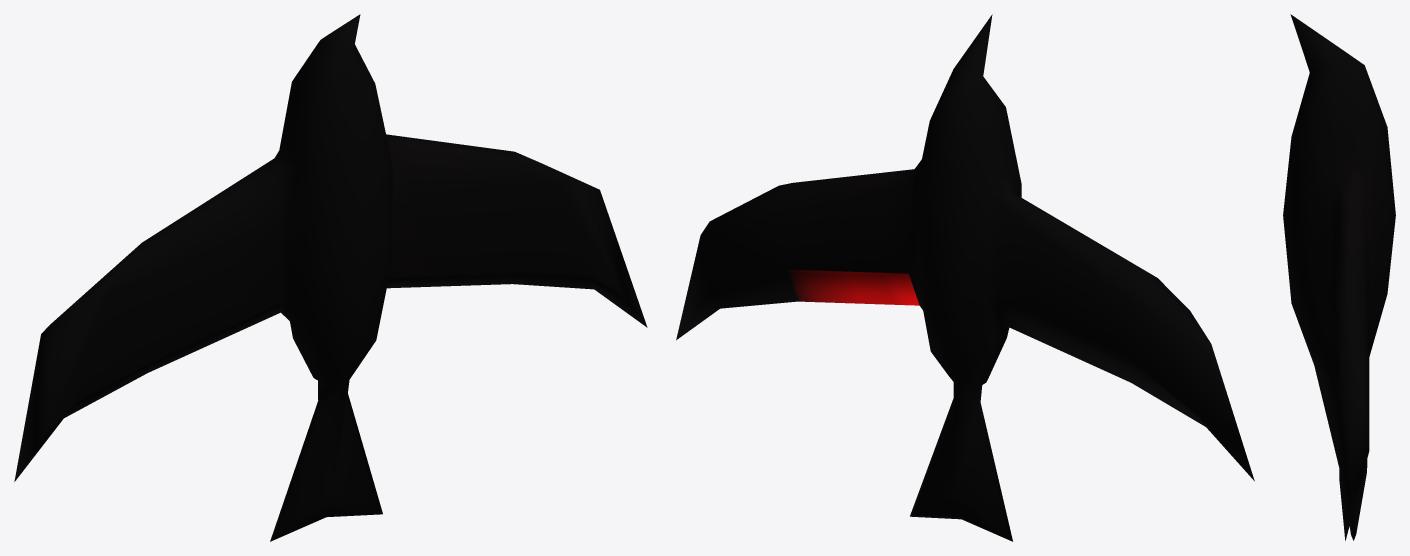
File: Birdtest.fbx
3 renders of one model, left to right at view 1: azimuth 30°, elevation 25°; view 2: azimuth 150°, elevation 25°; view 3: azimuth 270°, elevation 25°, orthographic. The views are drawn at different scales.
Visible parts, largest first — view 1: Bird; view 2: Bird; view 3: Bird.
Boxes of the visible parts, x1,y1,x2,y2 form: Bird: (14,14,647,541); Bird: (676,14,1254,541); Bird: (1283,14,1395,540).
Size of the model in its own units: 752 by 612 by 125.
